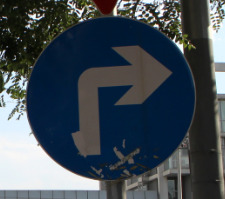right_turn: (26, 16, 195, 180)
